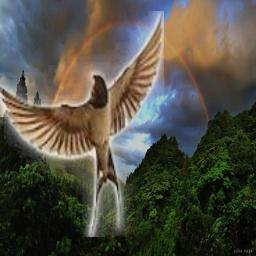Swallow: (0, 11, 164, 237)
